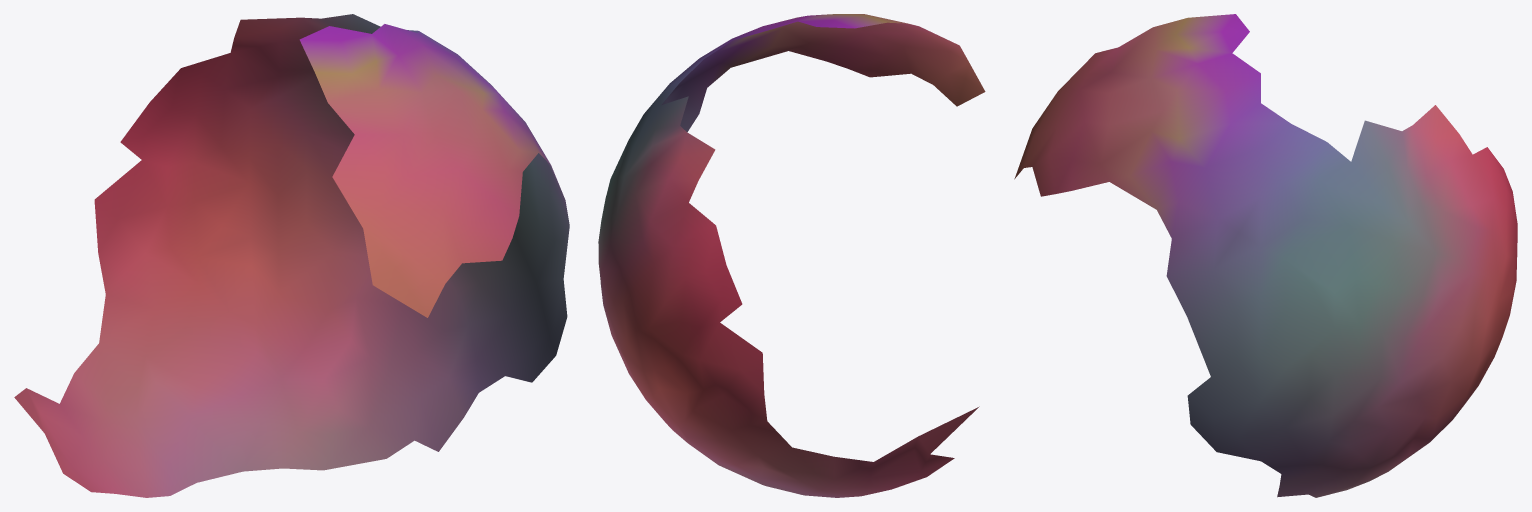
Rendered from space-nebulae-nebula_v13.glb.
3 renders of one model, left to right at view 1: azimuth 30°, elevation 25°; view 2: azimuth 150°, elevation 25°; view 3: azimuth 270°, elevation 25°, orthographic. The views are drawn at different scales.
Parts seen in each view (by area): view 1: Nebula_v13; view 2: Nebula_v13; view 3: Nebula_v13.
Part boxes in pixels (left/top/right/bottom): Nebula_v13: left=14, top=14, right=569, bottom=497; Nebula_v13: left=598, top=14, right=985, bottom=497; Nebula_v13: left=1014, top=14, right=1517, bottom=497.
Bounding box in the file's own units: 0.4789 × 0.4808 × 0.5.
